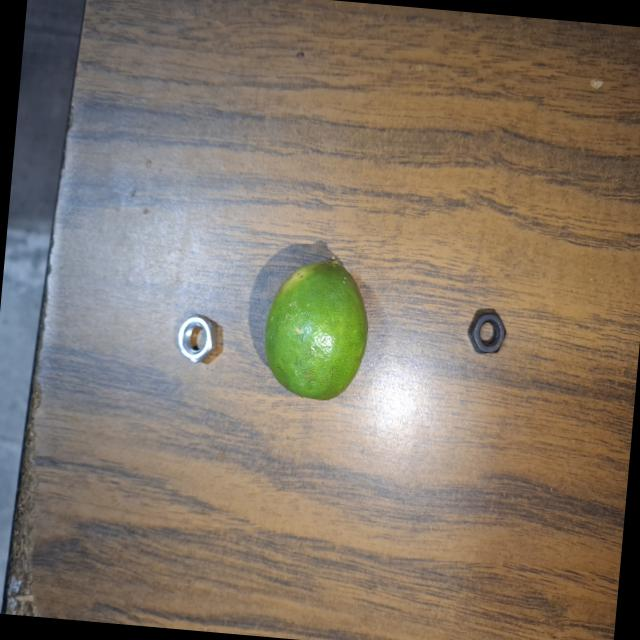limon: (252, 239, 377, 409)
milimetrico: (456, 298, 518, 364)
tuerca: (162, 300, 223, 371)
